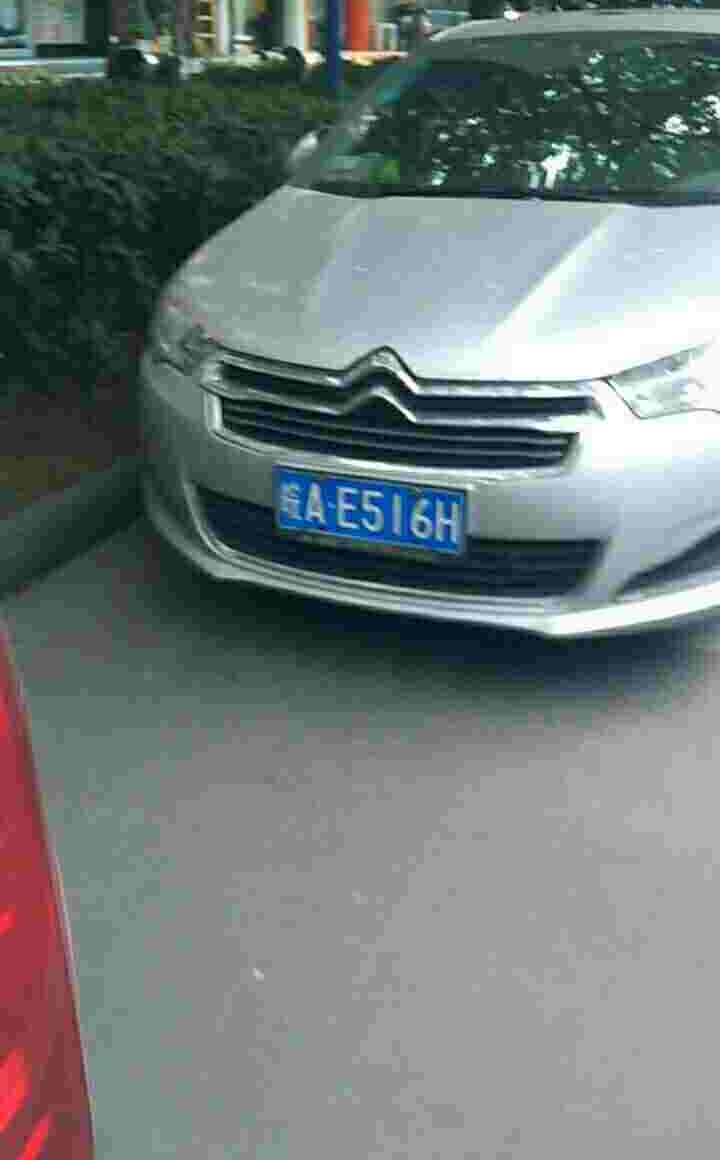plate: (274, 464, 468, 557)
